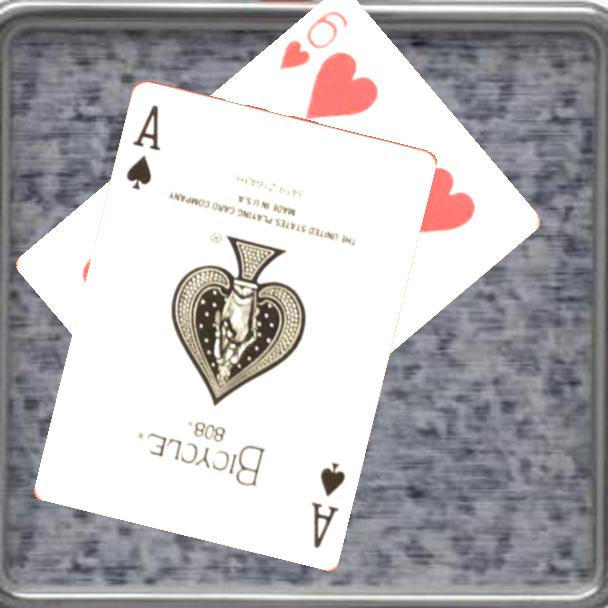h06: (276, 7, 352, 74)
s01: (308, 459, 349, 552), (123, 101, 164, 194)
